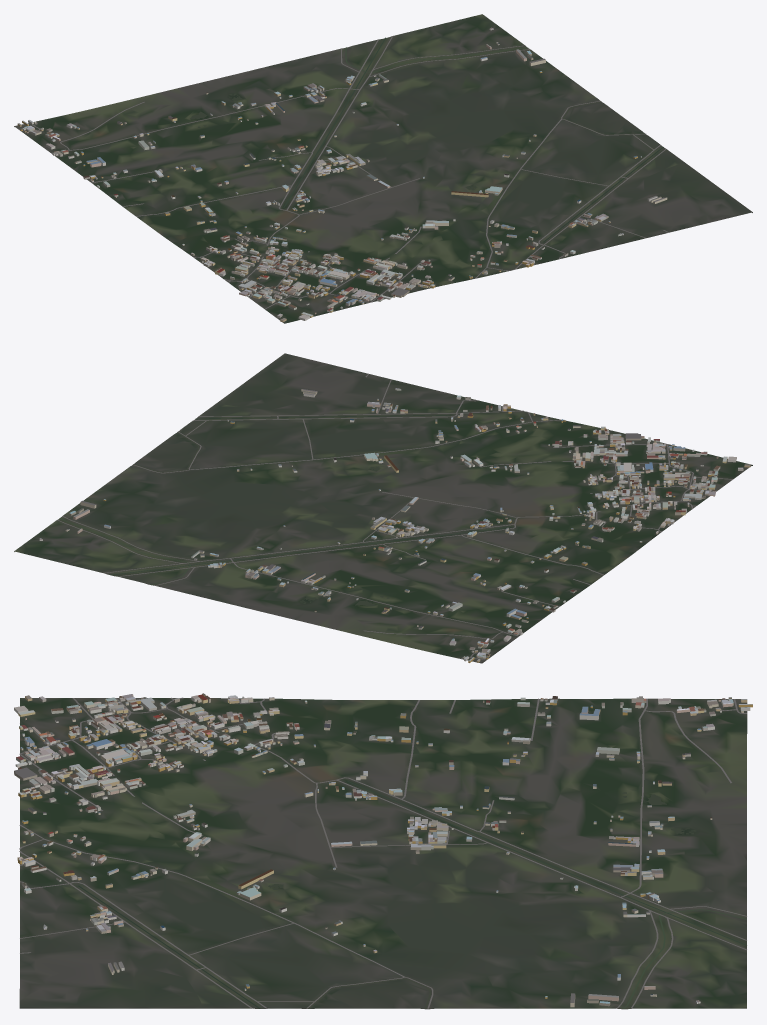
The picture shows the model from 3 angles, top to bottom: view 1: azimuth 30°, elevation 25°; view 2: azimuth 150°, elevation 25°; view 3: azimuth 270°, elevation 25°; orthographic projection. The views are drawn at different scales.
Visible parts, largest first — view 1: ground, buildings, roads, water; view 2: ground, buildings, roads, water; view 3: ground, buildings, roads, water.
Part boxes in pixels (x1,y1,x2,y2): ground: (14, 14, 752, 323); buildings: (17, 27, 667, 322); roads: (18, 36, 668, 309); water: (190, 37, 663, 242); ground: (14, 353, 752, 663); buildings: (39, 388, 750, 662); roads: (57, 373, 733, 660); water: (59, 415, 509, 606); ground: (19, 698, 747, 1009); buildings: (14, 693, 752, 1007); roads: (19, 697, 747, 1008); water: (78, 781, 746, 1008).
Bounding box in the file's own units: 1412 × 20.41 × 1424.
